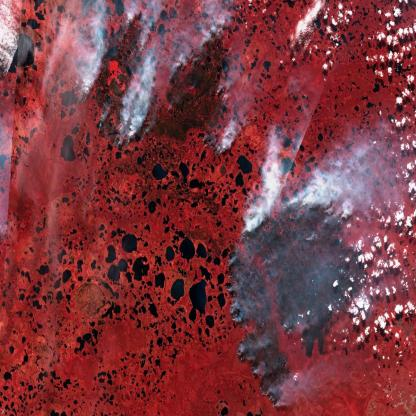fire: (230, 176, 351, 236), (233, 338, 284, 409), (217, 248, 252, 328), (93, 112, 148, 156), (160, 41, 199, 91), (60, 72, 92, 112), (197, 126, 232, 162), (211, 76, 236, 106), (164, 100, 180, 118)
